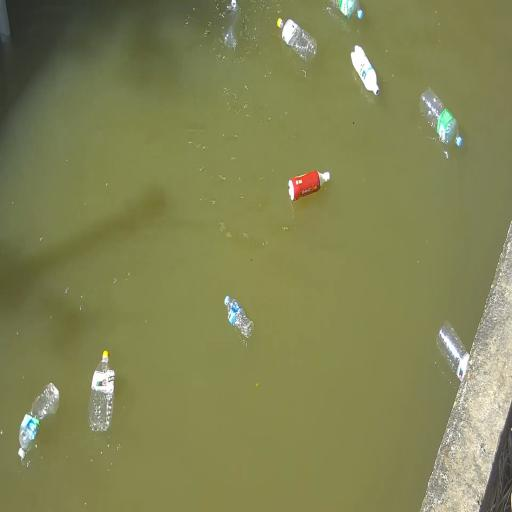plastic: (19, 384, 59, 459), (420, 88, 462, 146), (89, 351, 114, 431), (438, 322, 469, 381), (278, 18, 317, 63), (351, 46, 379, 95), (289, 171, 330, 201), (225, 296, 253, 338)
